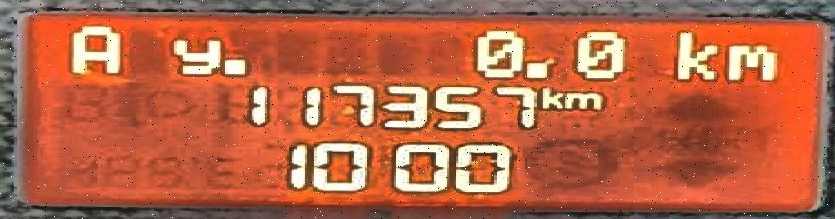-: (220, 54, 249, 77), (522, 58, 549, 80)
0: (307, 138, 371, 193), (451, 138, 513, 194), (387, 139, 451, 193), (569, 25, 627, 83), (465, 25, 523, 80)
1: (289, 82, 324, 128), (274, 141, 305, 191), (242, 82, 271, 129)
3: (378, 82, 427, 129)
5: (429, 83, 482, 130)
7: (487, 83, 536, 129), (327, 82, 376, 128)
X: (60, 20, 122, 75), (669, 27, 720, 83), (164, 32, 220, 76), (722, 39, 776, 83), (560, 89, 600, 110), (535, 83, 560, 109)
